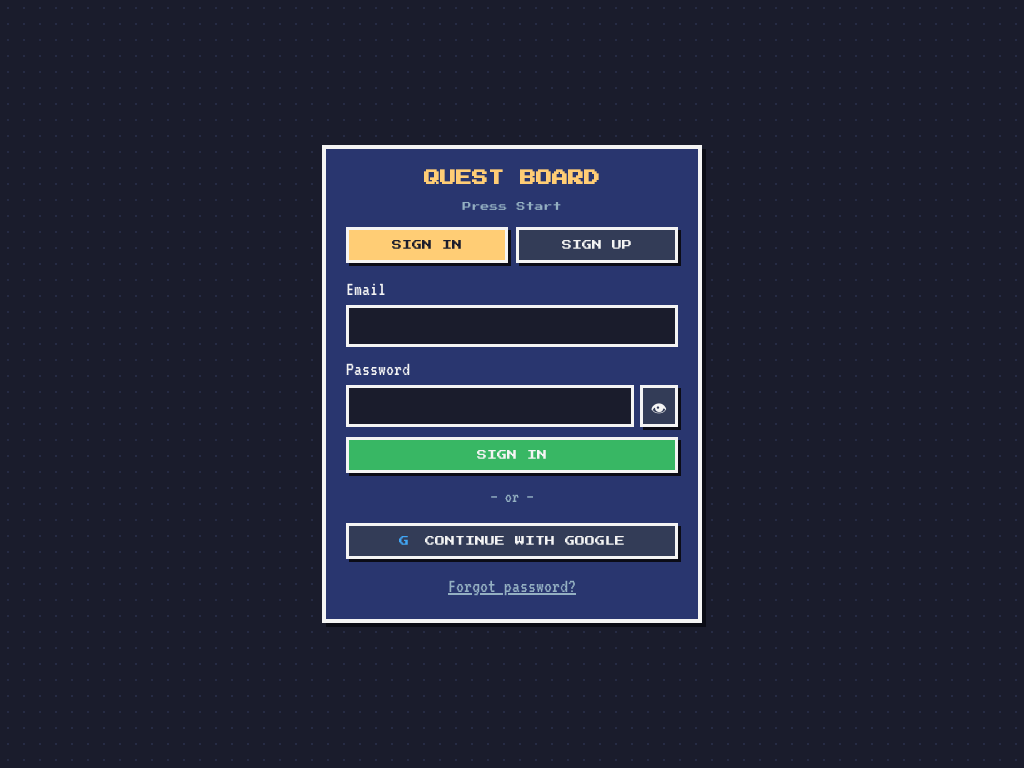
Scenario: AuthScreen › signs up and asks to confirm the email
Click the tab "Sign up": (597, 245) [516,227,678,263]
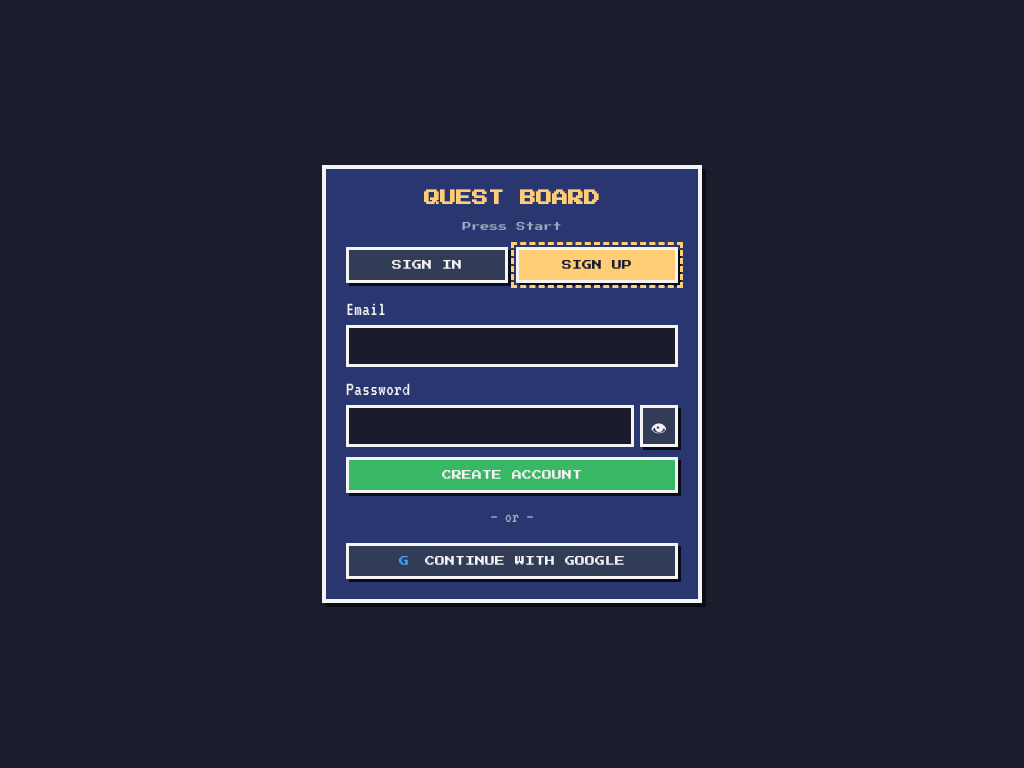
In the field labelled "Email": (512, 346) [346,325,678,367], type "a@b.co"
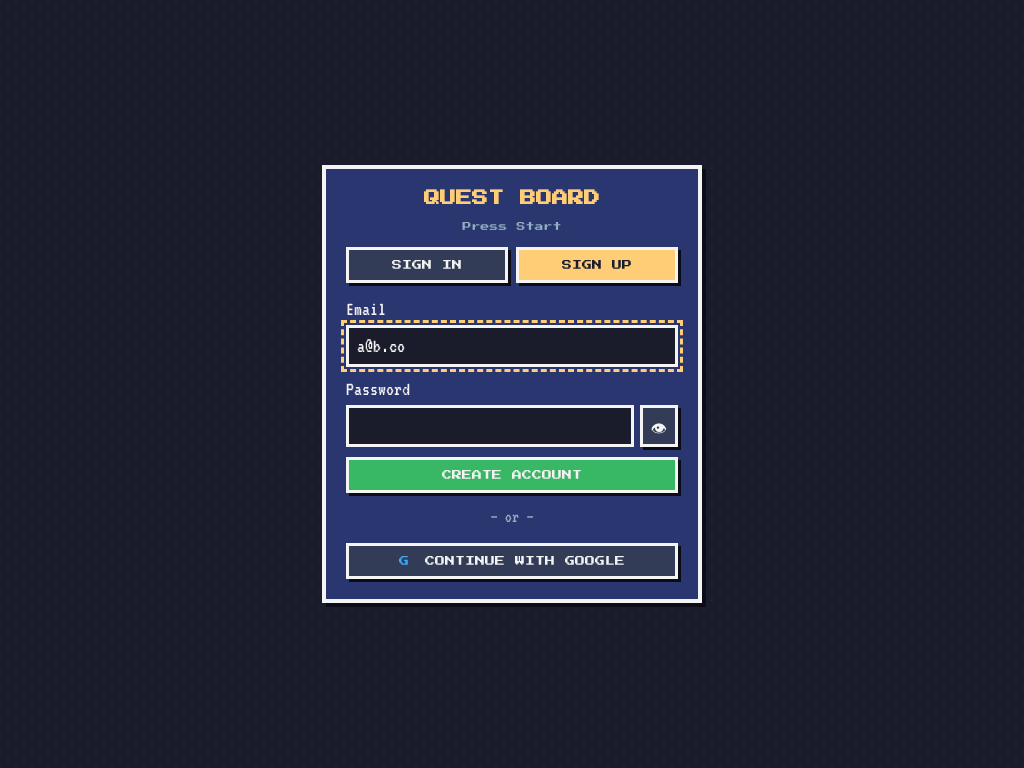
In the password field labelled "Password": (490, 426) [346,405,634,447], type "password1"
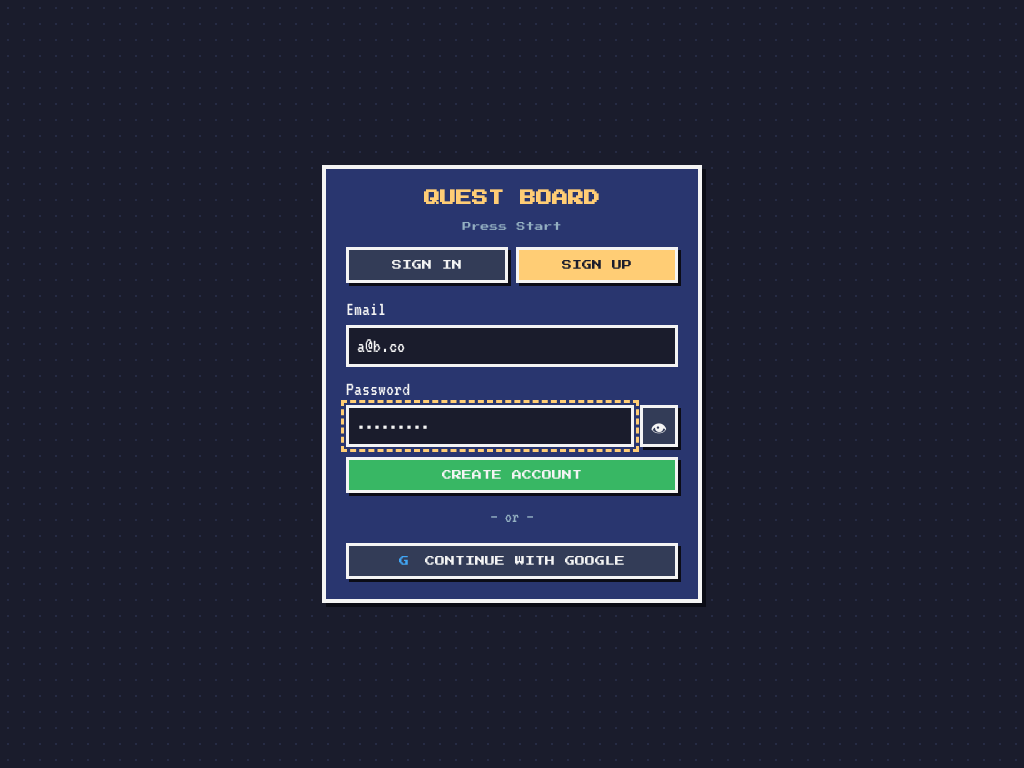
Click the button "Create account": (512, 475) [346,457,678,493]
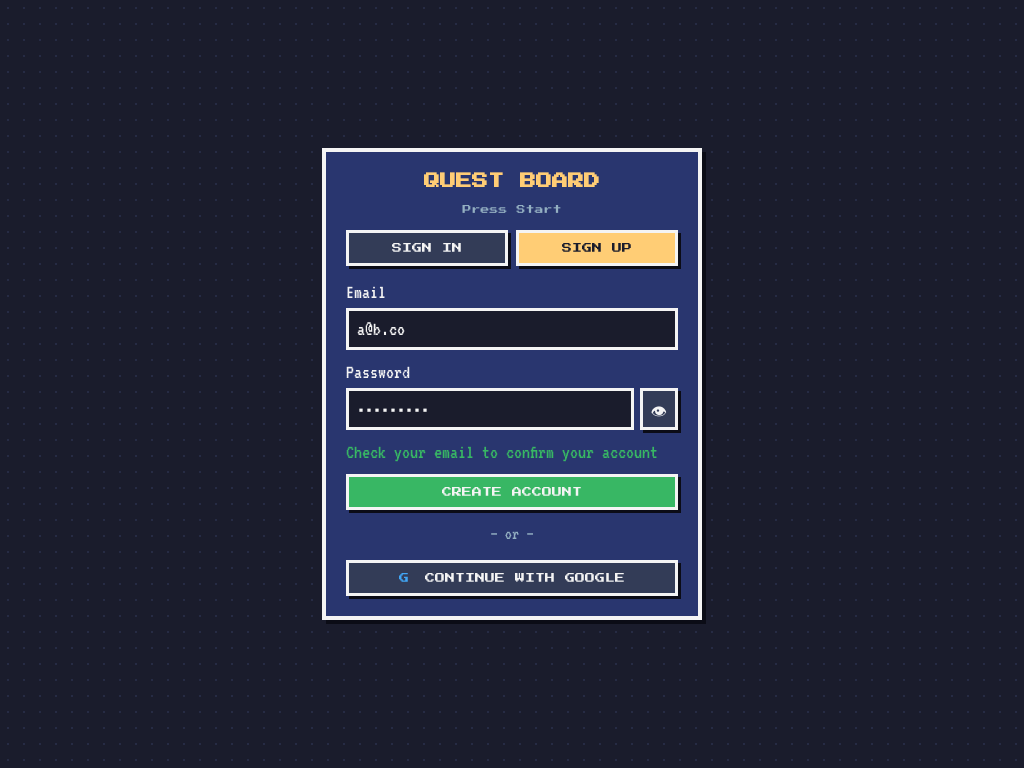
Expected: the text "Check your email to confirm your account" is shown, [346,440,678,464]
